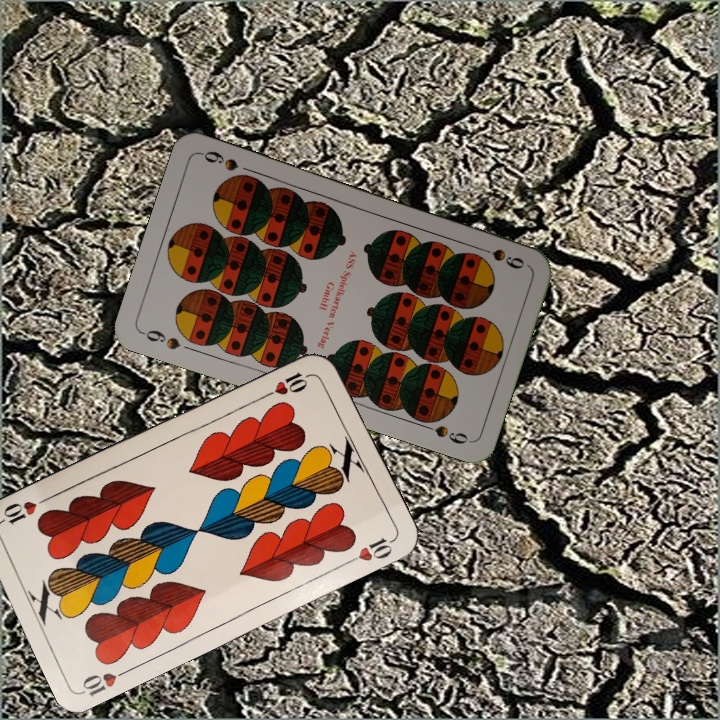H10: (78, 663, 135, 699), (259, 367, 315, 401)
S9: (471, 242, 527, 272), (137, 325, 183, 352)
